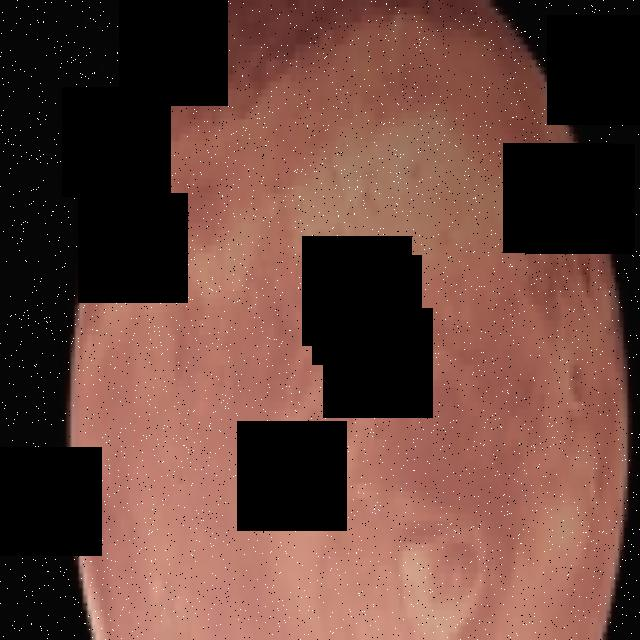Mars: (67, 0, 628, 640)
